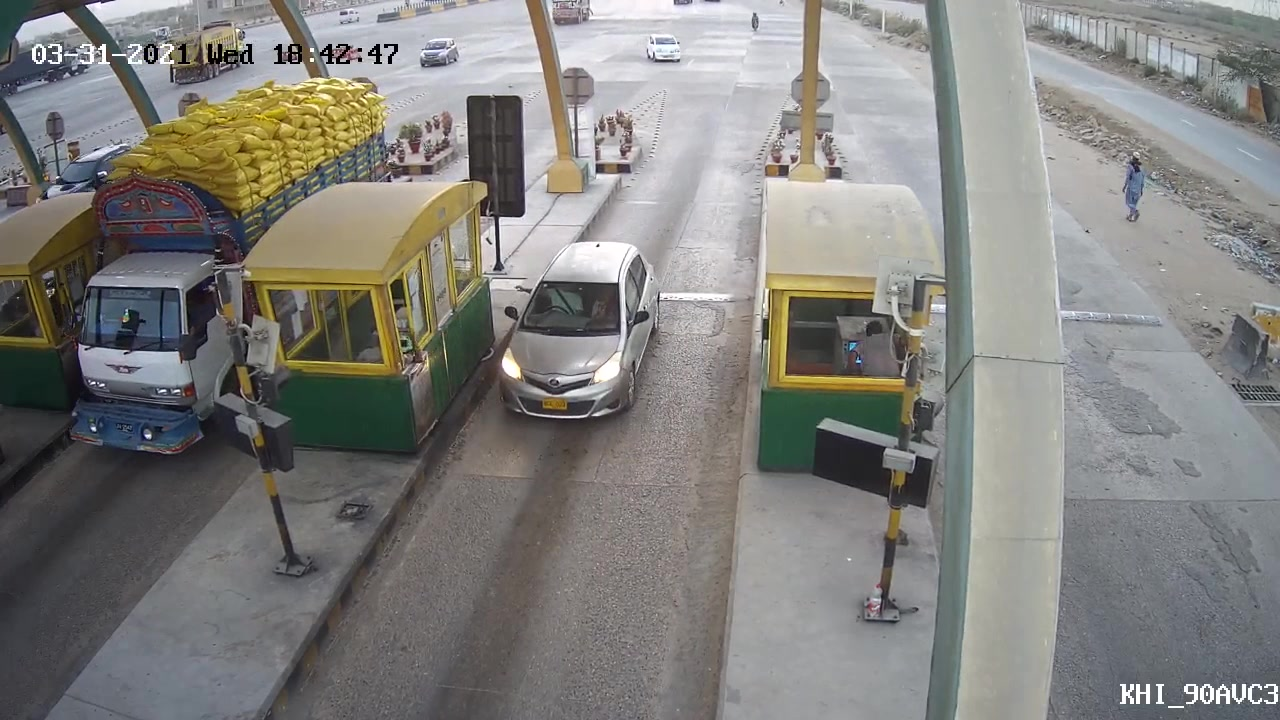F1: (480, 231, 675, 429)
